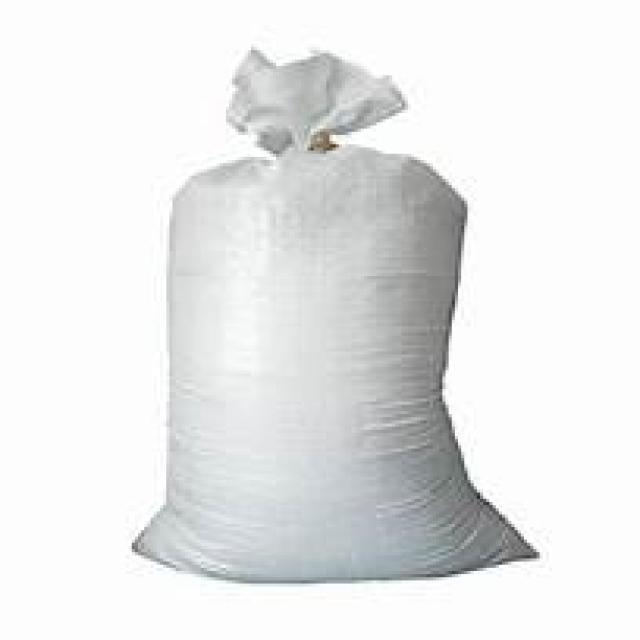gunny_bag: (132, 45, 549, 585)
